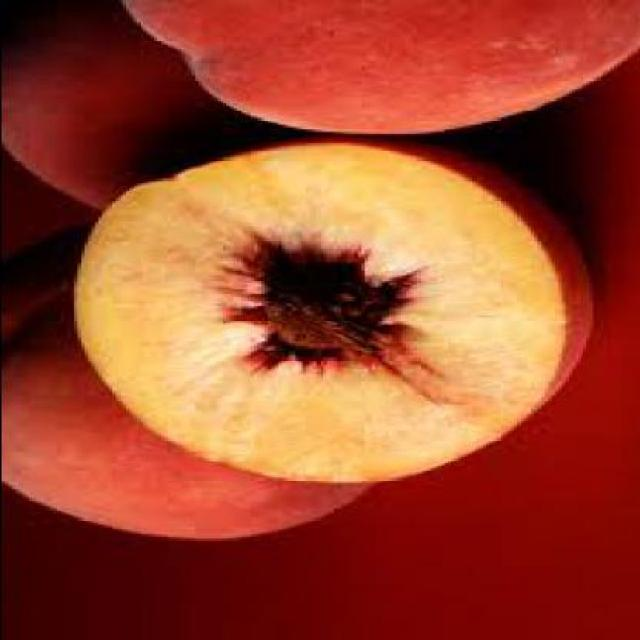BIODEGRADABLE: (75, 144, 565, 481), (1, 234, 368, 538), (124, 1, 640, 133), (1, 0, 280, 208)
